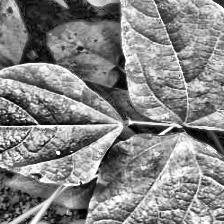ALS: (0, 61, 122, 189), (0, 0, 32, 68)
